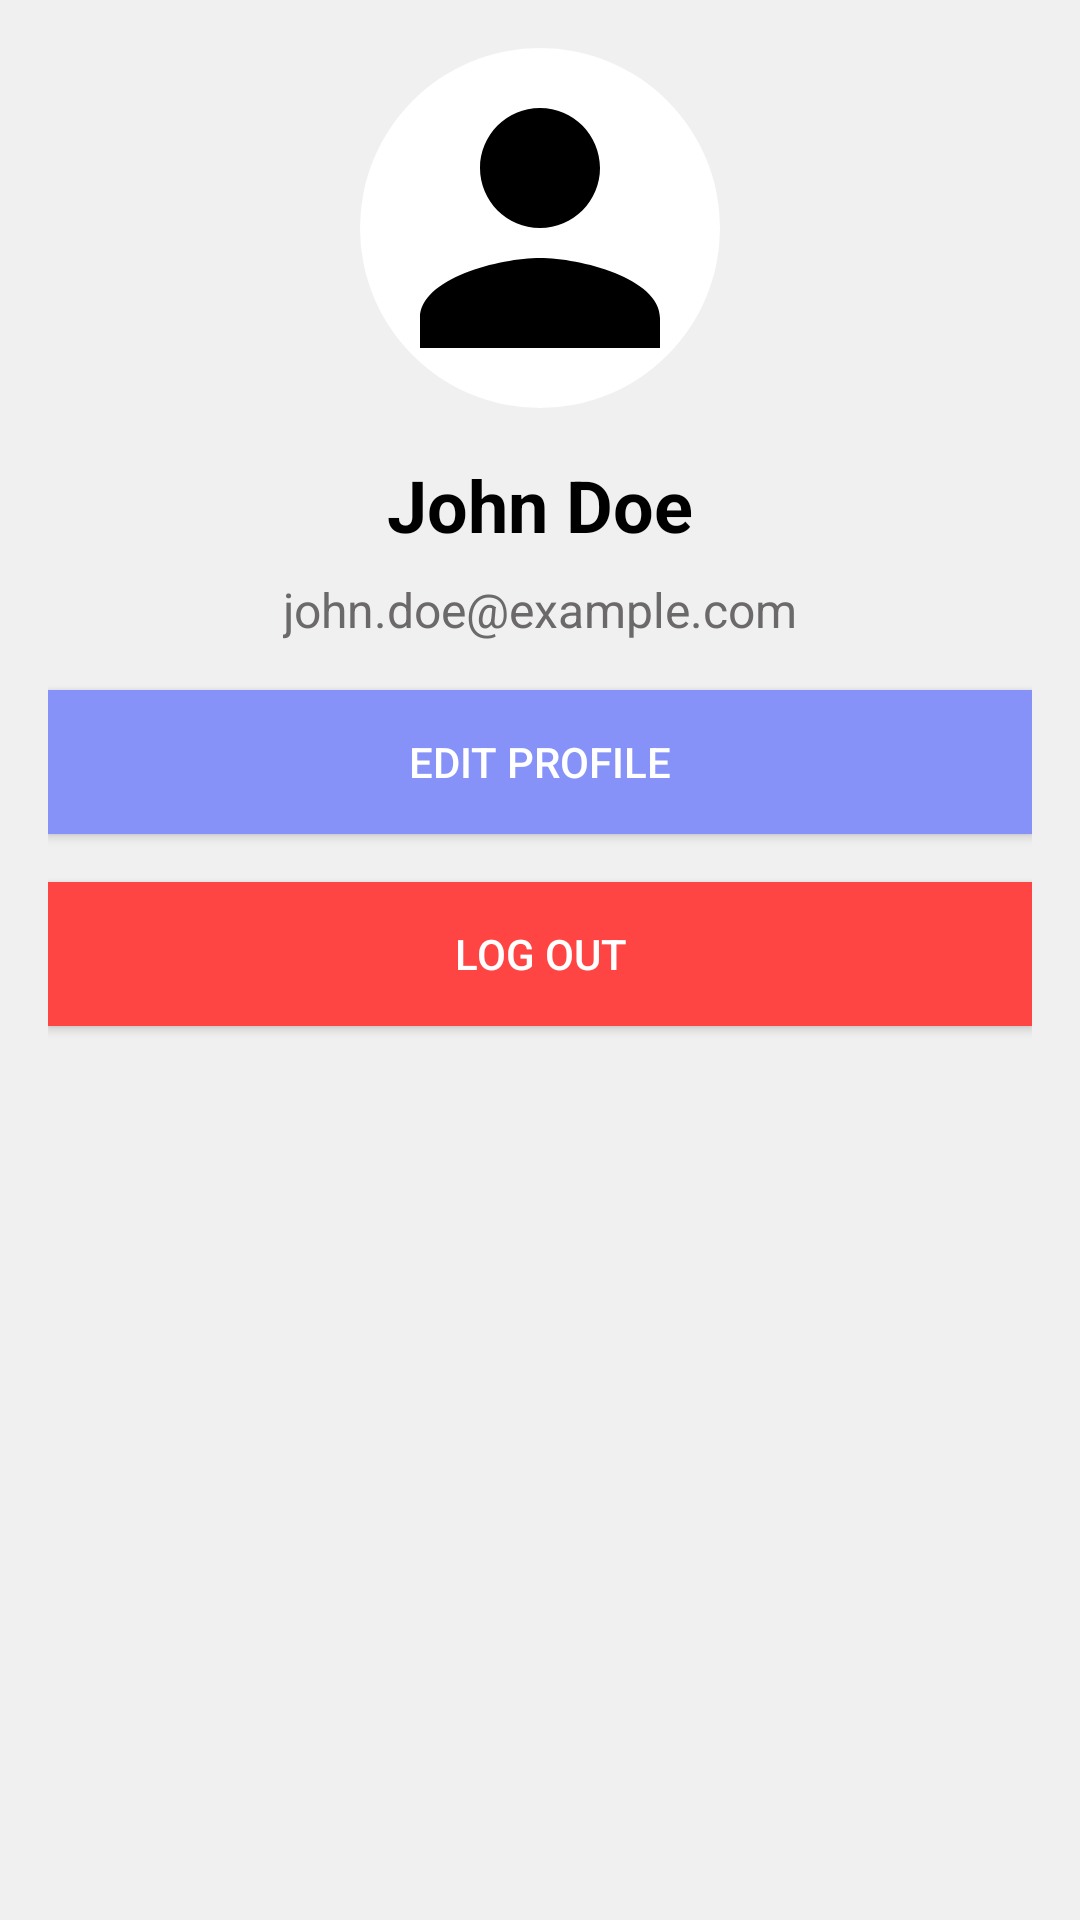

Locate icon controls on the screen. Image size 1080 x 1920, boxes as (x1, y1, x2, y2).
Profile Picture: (420, 108, 660, 348)
